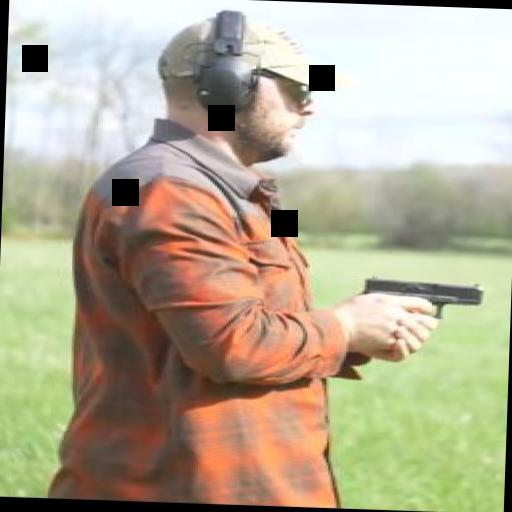Handgun: (353, 272, 486, 344)
